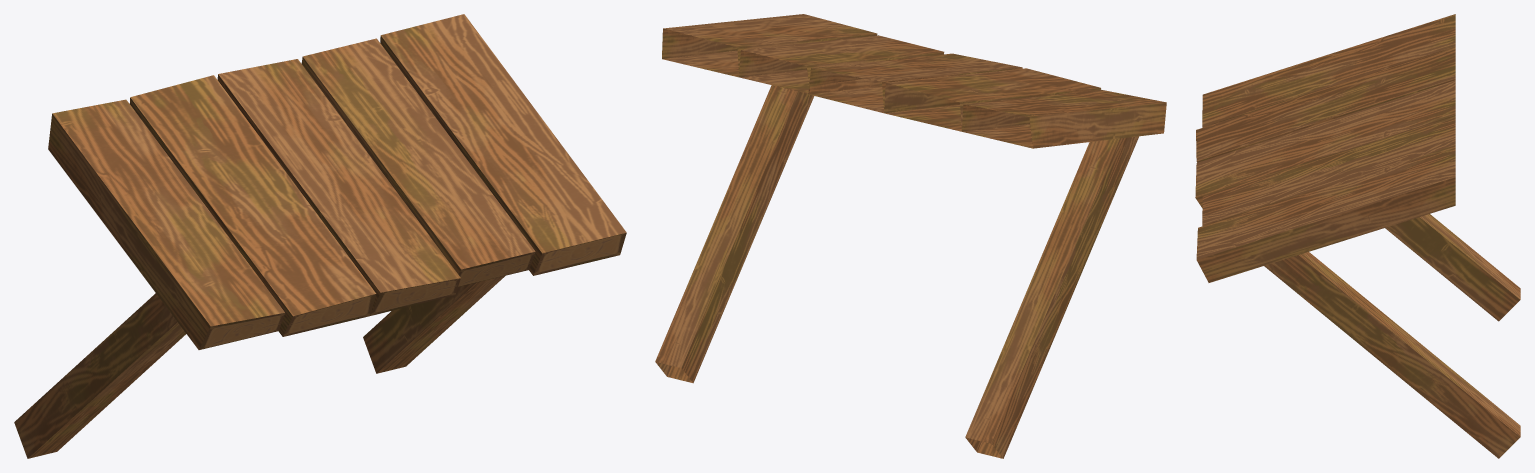
Rendered from window_roof_wide.gltf.
The picture shows the model from 3 angles, left to right: view 1: azimuth 30°, elevation 25°; view 2: azimuth 150°, elevation 25°; view 3: azimuth 270°, elevation 25°; orthographic projection. The views are drawn at different scales.
Parts seen in each view (by area): view 1: Window_Roof_Wide; view 2: Window_Roof_Wide; view 3: Window_Roof_Wide.
Boxes of the visible parts, x1=… form: Window_Roof_Wide: x1=14, y1=14, x2=626, y2=458; Window_Roof_Wide: x1=655, y1=14, x2=1166, y2=458; Window_Roof_Wide: x1=1195, y1=14, x2=1520, y2=458.
Bounding box in the file's own units: 1.42 × 1.18 × 1.18.
Materials: 2 (2 with a texture image).
